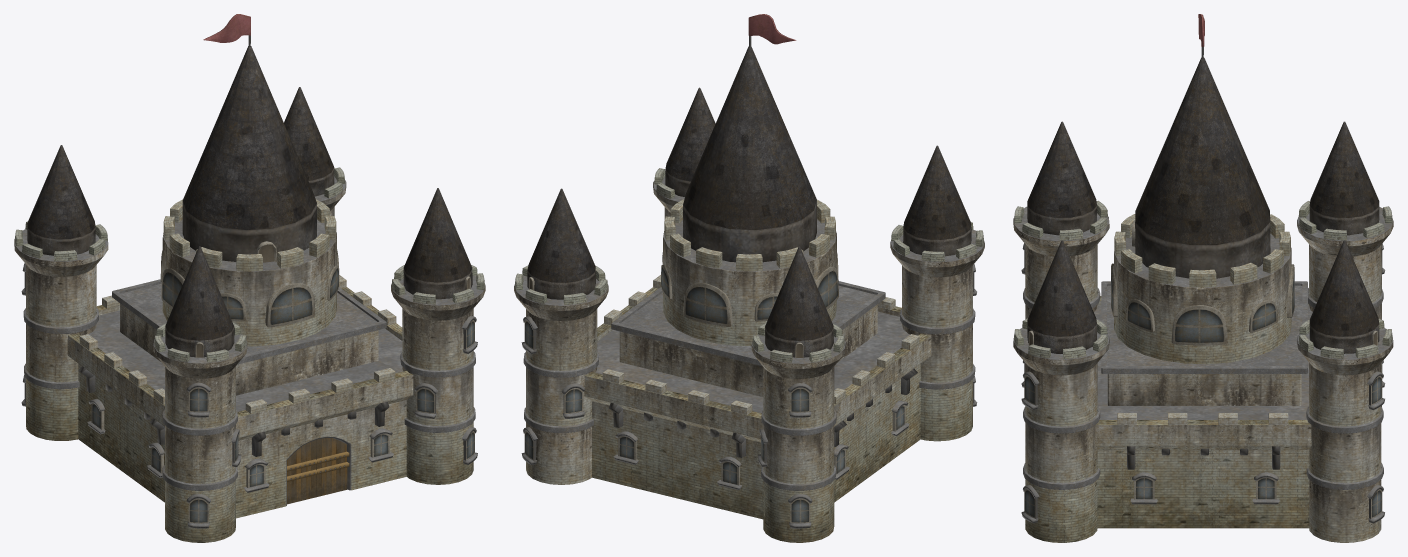
Rendered from castillo_2.glb.
3 views of the same model, side by side, from view 1: azimuth 30°, elevation 25°; view 2: azimuth 150°, elevation 25°; view 3: azimuth 270°, elevation 25° (orthographic). The views are drawn at different scales.
Visible parts, largest first — view 1: node_id31_0; view 2: node_id31_0; view 3: node_id31_0.
Boxes of the visible parts, x1,y1,x2,y2 form: node_id31_0: (14, 14, 485, 542); node_id31_0: (514, 14, 984, 542); node_id31_0: (1013, 14, 1393, 542).
Bounding box in the file's own units: 0.1852 × 0.2424 × 0.1869.
Materials: 1 (1 with a texture image).
